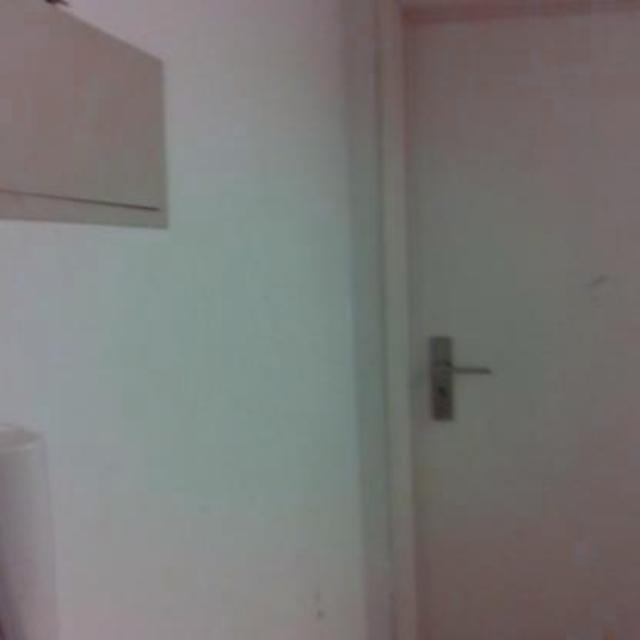door: (390, 0, 638, 638)
